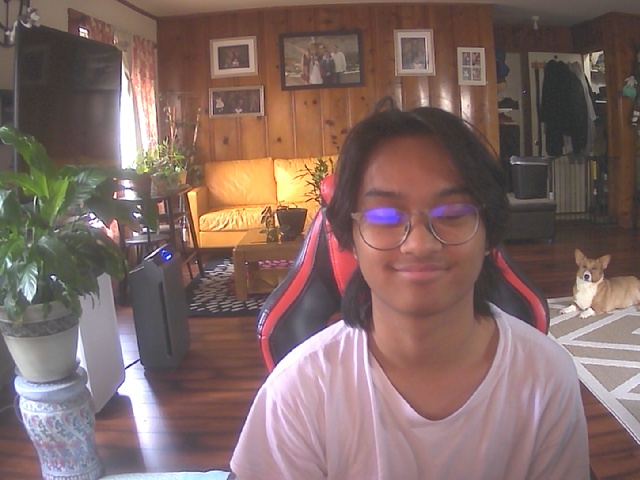happy: (351, 118, 497, 318)
